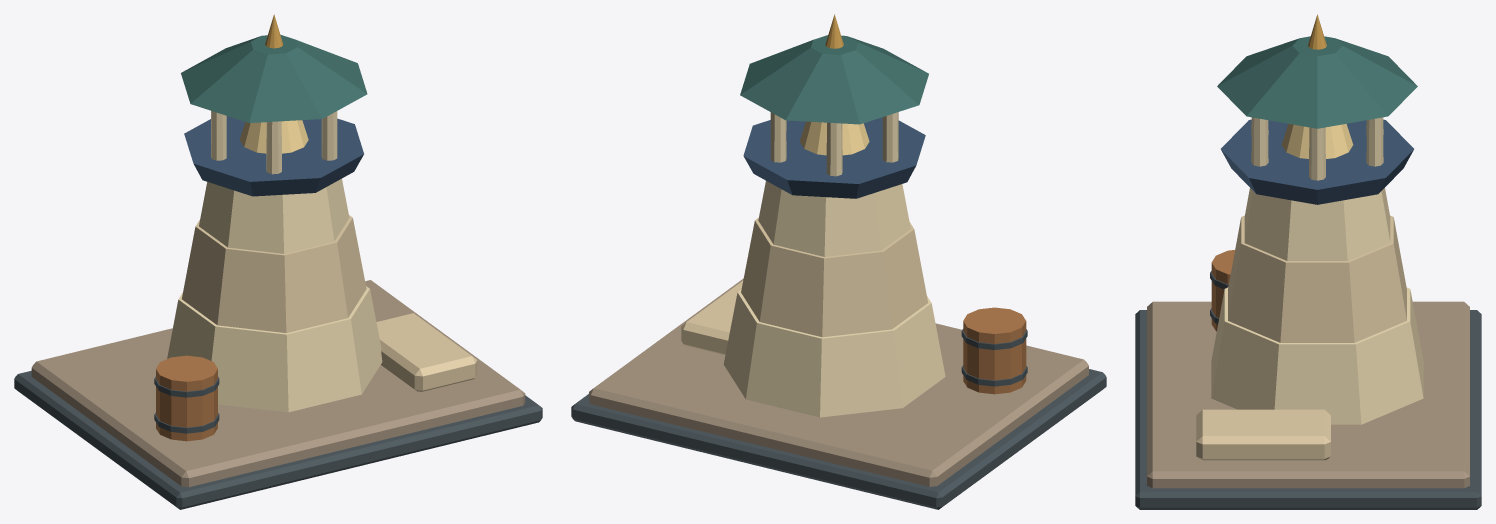
The model's file is aegean.glb.
3 renders of one model, left to right at view 1: azimuth 30°, elevation 25°; view 2: azimuth 150°, elevation 25°; view 3: azimuth 270°, elevation 25°, orthographic. The views are drawn at different scales.
Parts seen in each view (by area): view 1: aegean-stone, aegean-ivory, aegean-pale, aegean-slate, aegean-jade, aegean-navy, aegean-oak, aegean-gold; view 2: aegean-stone, aegean-ivory, aegean-pale, aegean-slate, aegean-jade, aegean-navy, aegean-oak, aegean-gold; view 3: aegean-stone, aegean-ivory, aegean-pale, aegean-jade, aegean-slate, aegean-navy, aegean-gold, aegean-oak.
Part boxes in pixels (bbox=[...]): aegean-stone: bbox=[31, 280, 525, 487]; aegean-ivory: bbox=[167, 111, 382, 412]; aegean-pale: bbox=[182, 215, 477, 391]; aegean-slate: bbox=[14, 370, 542, 509]; aegean-jade: bbox=[181, 34, 367, 122]; aegean-navy: bbox=[184, 116, 363, 196]; aegean-oak: bbox=[156, 355, 217, 441]; aegean-gold: bbox=[239, 120, 308, 153]; aegean-stone: bbox=[589, 278, 1088, 486]; aegean-ivory: bbox=[723, 112, 945, 417]; aegean-pale: bbox=[681, 217, 928, 355]; aegean-slate: bbox=[571, 329, 1106, 509]; aegean-jade: bbox=[740, 35, 928, 124]; aegean-navy: bbox=[743, 117, 925, 198]; aegean-oak: bbox=[963, 307, 1026, 394]; aegean-gold: bbox=[799, 121, 869, 155]; aegean-stone: bbox=[1147, 301, 1469, 488]; aegean-ivory: bbox=[1211, 117, 1423, 424]; aegean-pale: bbox=[1196, 215, 1406, 460]; aegean-jade: bbox=[1217, 36, 1417, 128]; aegean-slate: bbox=[1135, 271, 1481, 509]; aegean-navy: bbox=[1221, 119, 1413, 204]; aegean-gold: bbox=[1281, 123, 1353, 158]; aegean-oak: bbox=[1211, 250, 1234, 331].
Size of the model in its own units: 2.45 by 2.49 by 1.93.
